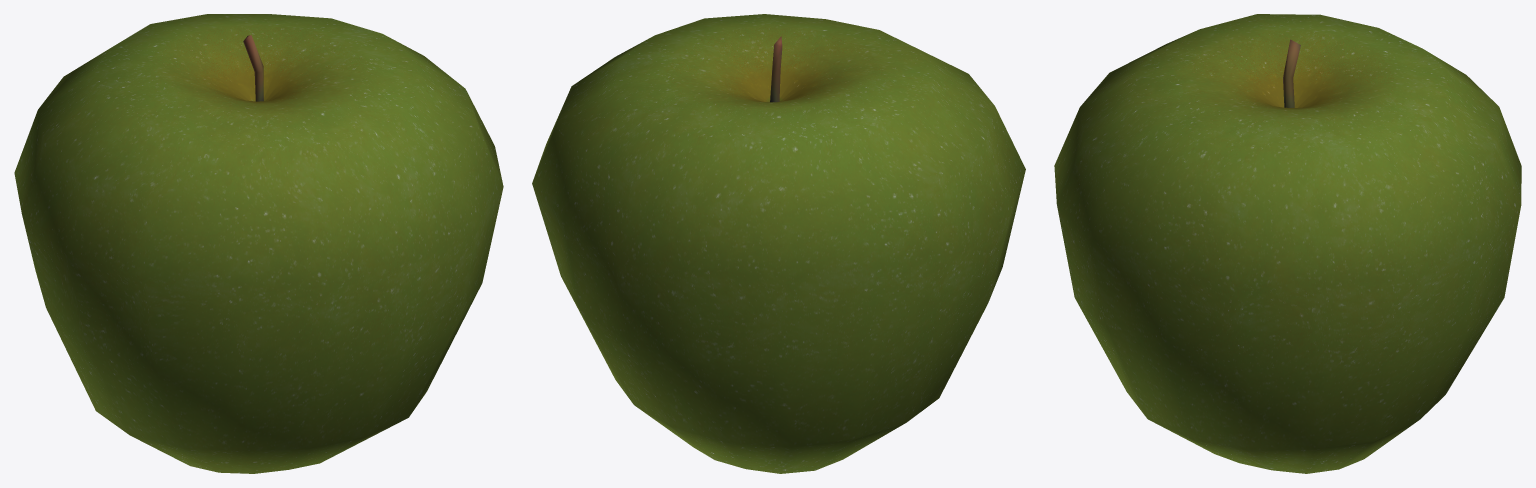
Rendered from Apple_2.obj.
3 views of the same model, side by side, from view 1: azimuth 30°, elevation 25°; view 2: azimuth 150°, elevation 25°; view 3: azimuth 270°, elevation 25° (orthographic). The views are drawn at different scales.
Visible parts, largest first — view 1: apple_a2; view 2: apple_a2; view 3: apple_a2.
Part boxes in pixels (left/top/right/bottom): apple_a2: left=14, top=14, right=503, bottom=473; apple_a2: left=532, top=14, right=1025, bottom=473; apple_a2: left=1054, top=14, right=1521, bottom=473.
Bounding box in the file's own units: 0.1084 × 0.0996 × 0.1052.
